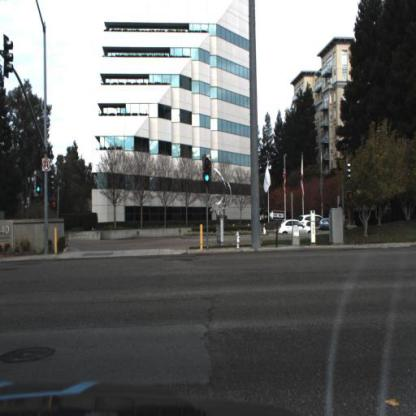car: (300, 213, 329, 236), (279, 220, 313, 238)
trafficLight-Green: (201, 148, 216, 197), (32, 175, 46, 206), (203, 157, 212, 184), (37, 179, 45, 198)
